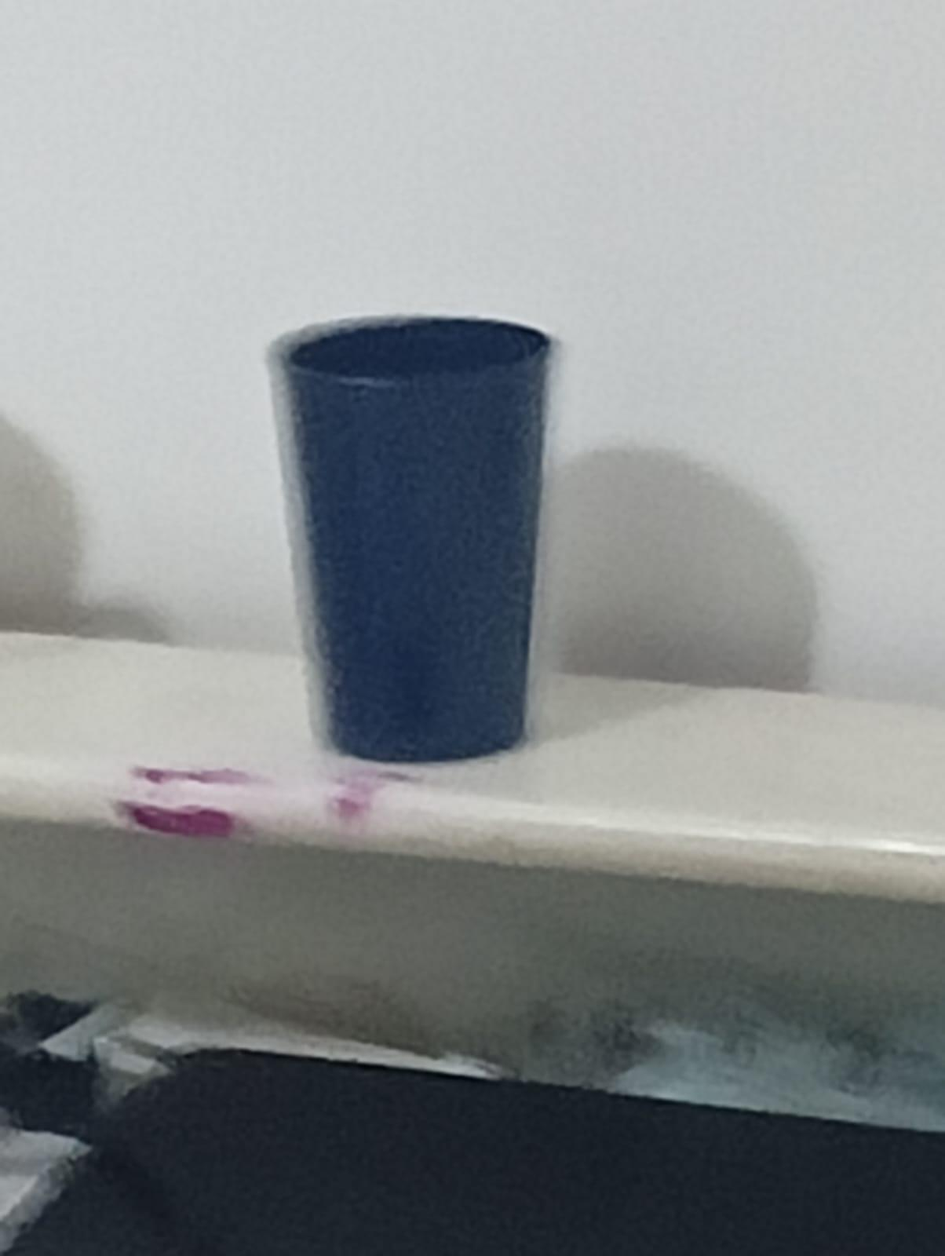cup: (269, 316, 553, 763)
